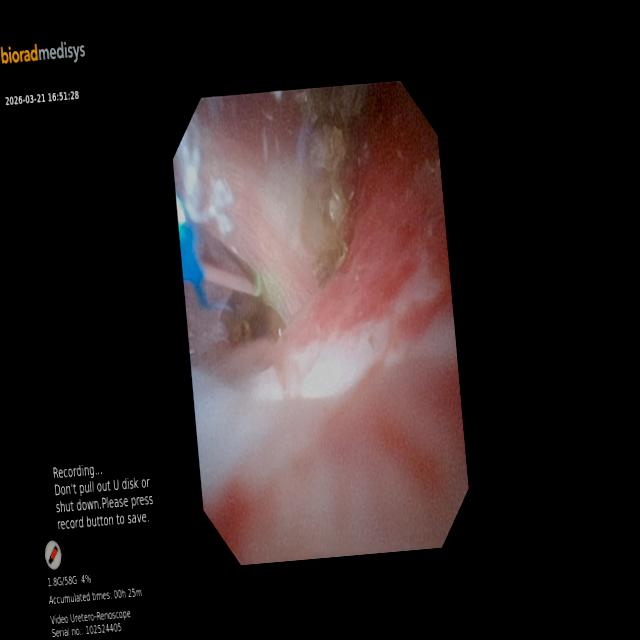laser-fibre: (199, 226, 256, 295)
laser_dot: (266, 277, 278, 301)
stone-new: (298, 123, 349, 284), (220, 291, 284, 344)
